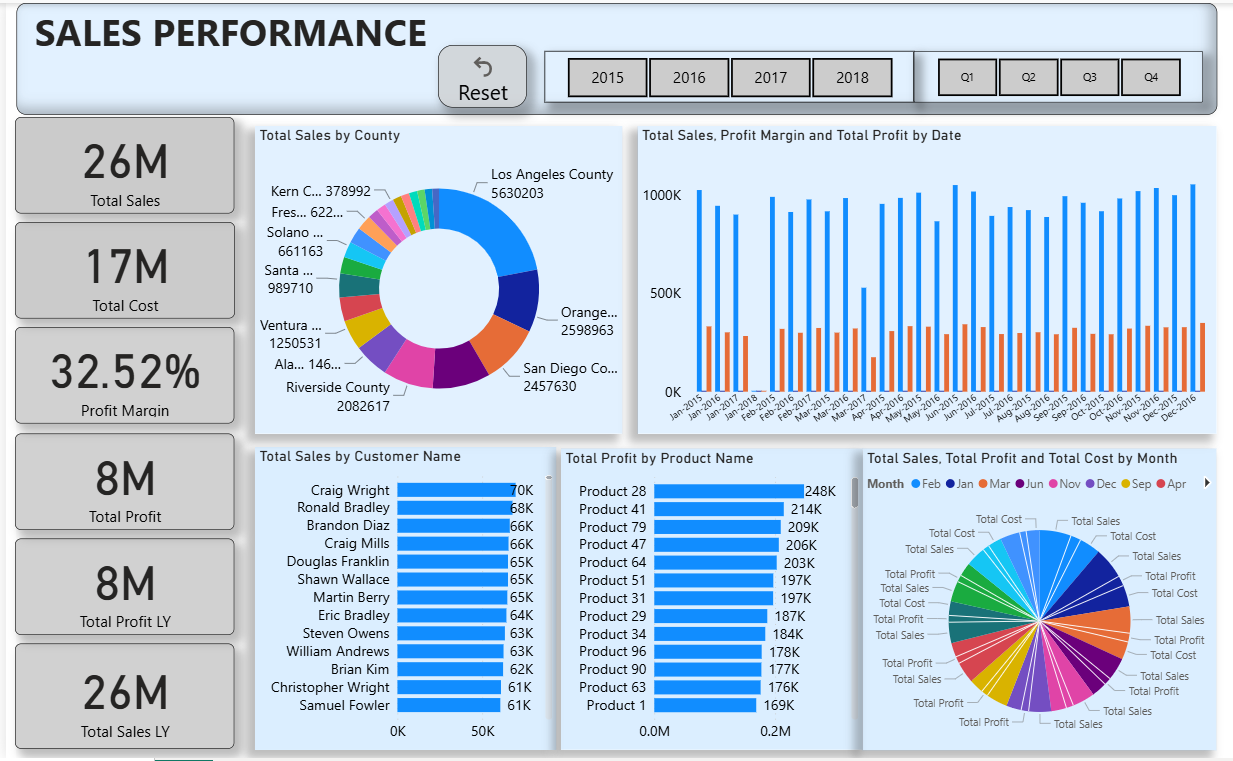

This screenshot's page, from the dashboard's own definition file:
{"tool":"powerbi","page":{"name":"Sales Dashboard","canvas":[1400,860],"ordinal":0},"visuals":[{"type":"textbox","box":[11.4,0,1368.8,127.2],"z":0},{"type":"card","fields":{"Values":["Key Measures.Total Sales"]},"box":[10,130,250,110],"z":1000},{"type":"card","fields":{"Values":["Key Measures.Total Profit"]},"box":[10,491,250,110],"z":2000},{"type":"card","fields":{"Values":["Key Measures.Total Cost"]},"box":[10,249,250.8,110],"z":3000},{"type":"card","fields":{"Values":["Key Measures.Profit Margin"]},"box":[10.6,369,250,110],"z":4000},{"type":"card","fields":{"Values":["Key Measures.Total Profit LY"]},"box":[10.6,611,250,110],"z":5000},{"type":"card","fields":{"Values":["Key Measures.Total Sales LY"]},"box":[10,730,250,120],"z":6000},{"type":"slicer","fields":{"Values":["DimDate.YEAR"]},"box":[612.9,54.8,421.3,59],"z":7000},{"type":"slicer","fields":{"Values":["DimDate.QTR"]},"box":[1034.7,55.1,330.3,58.9],"z":8000},{"type":"clusteredColumnChart","title":"Total Sales, Profit Margin and Total Profit by Date","fields":{"Category":["DimDate.MONTH_YEAR"],"Y":["Key Measures.Total Sales","Key Measures.Profit Margin","Key Measures.Total Profit"]},"box":[719.8,140.2,660,350.5],"z":9000},{"type":"donutChart","fields":{"Category":["Location_Data.County"],"Y":["Key Measures.Total Sales"]},"box":[283.8,140.2,418.9,350.5],"z":10000},{"type":"barChart","fields":{"Category":["Customer_Data.Customer Name"],"Y":["Key Measures.Total Sales"]},"box":[283.8,506.1,343.7,345.4],"z":11000},{"type":"barChart","fields":{"Category":["Product_Data.Product Name"],"Y":["Key Measures.Total Profit"]},"box":[632.6,507.8,343.7,343.7],"z":12000},{"type":"pieChart","fields":{"Category":["DimDate.Month"],"Y":["Key Measures.Total Sales","Key Measures.Total Profit","Key Measures.Total Cost"]},"box":[977,508,403,344],"z":13000},{"type":"actionButton","title":"Reset","box":[492.9,48.4,101.1,71.6],"z":14000}]}

Visuals, with their boxes in screenshot pixels (x1, y1, x2, y2), scaled from the page's 1400x860 canvas onto the 1233x761 screenshot:
textbox: (10,0,1216,113)
card - Key Measures.Total Sales: (9,115,229,212)
card - Key Measures.Total Profit: (9,434,229,532)
card - Key Measures.Total Cost: (9,220,230,318)
card - Key Measures.Profit Margin: (9,327,230,424)
card - Key Measures.Total Profit LY: (9,541,230,638)
card - Key Measures.Total Sales LY: (9,646,229,752)
slicer - DimDate.YEAR: (540,48,911,101)
slicer - DimDate.QTR: (911,49,1202,101)
"Total Sales, Profit Margin and Total Profit by Date" clusteredColumnChart: (634,124,1215,434)
donutChart - Location_Data.County x Key Measures.Total Sales: (250,124,619,434)
barChart - Customer_Data.Customer Name x Key Measures.Total Sales: (250,448,553,753)
barChart - Product_Data.Product Name x Key Measures.Total Profit: (557,449,860,753)
pieChart - DimDate.Month x Key Measures.Total Sales: (860,450,1215,754)
"Reset" actionButton: (434,43,523,106)
